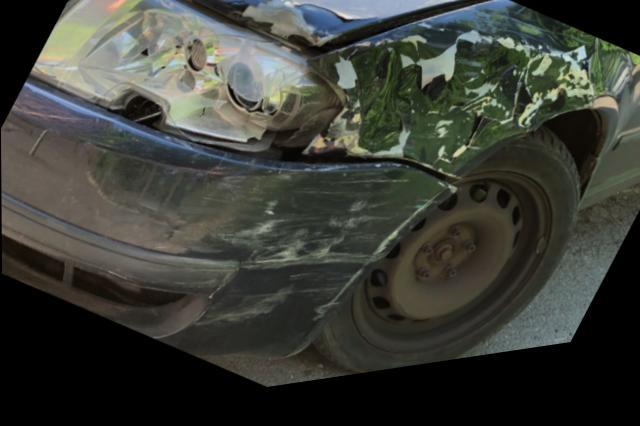dent: (327, 22, 595, 188)
lamp broken: (28, 0, 325, 161)
scratch: (190, 177, 452, 337)
